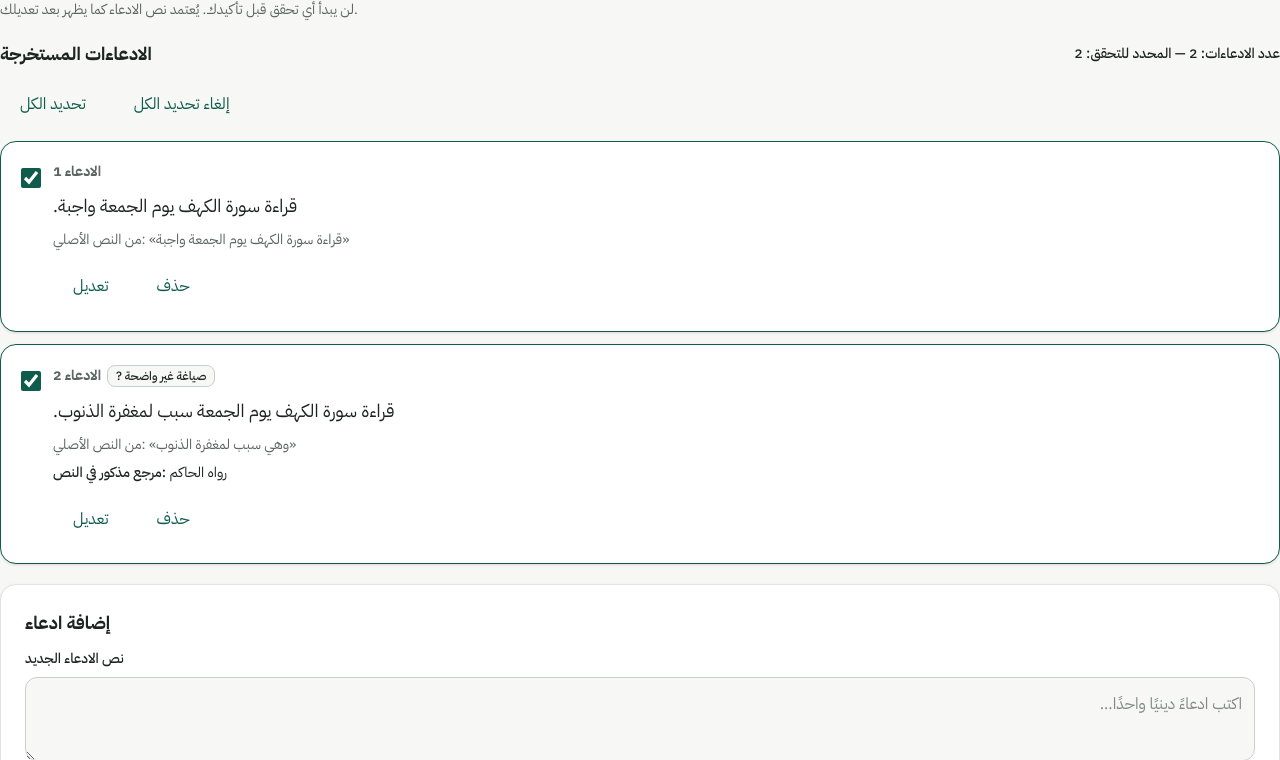
Scenario: Claim Review › cannot save an empty edit
Click the button "تعديل" below "الادعاء 1": (91, 286) [53,262,128,311]
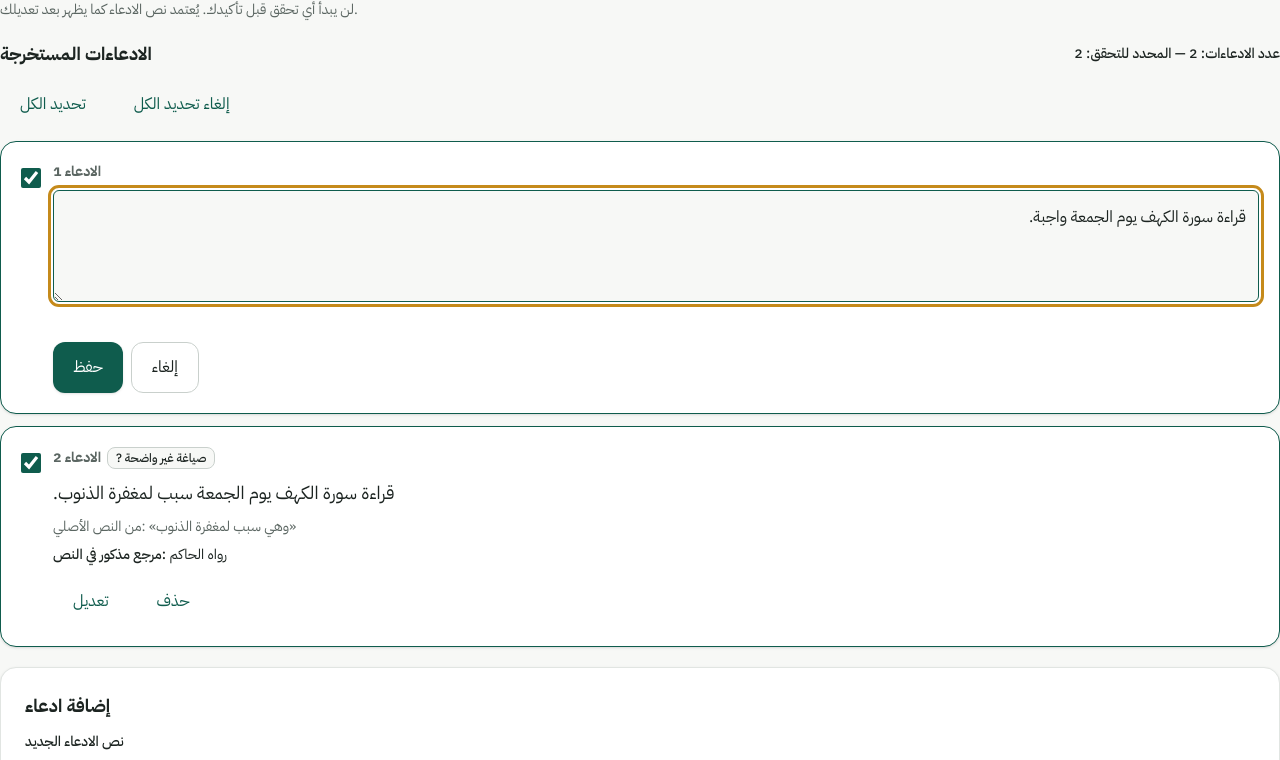
Clear the text box named "تعديل نص الادعاء 1": (656, 246) [53,190,1259,302]
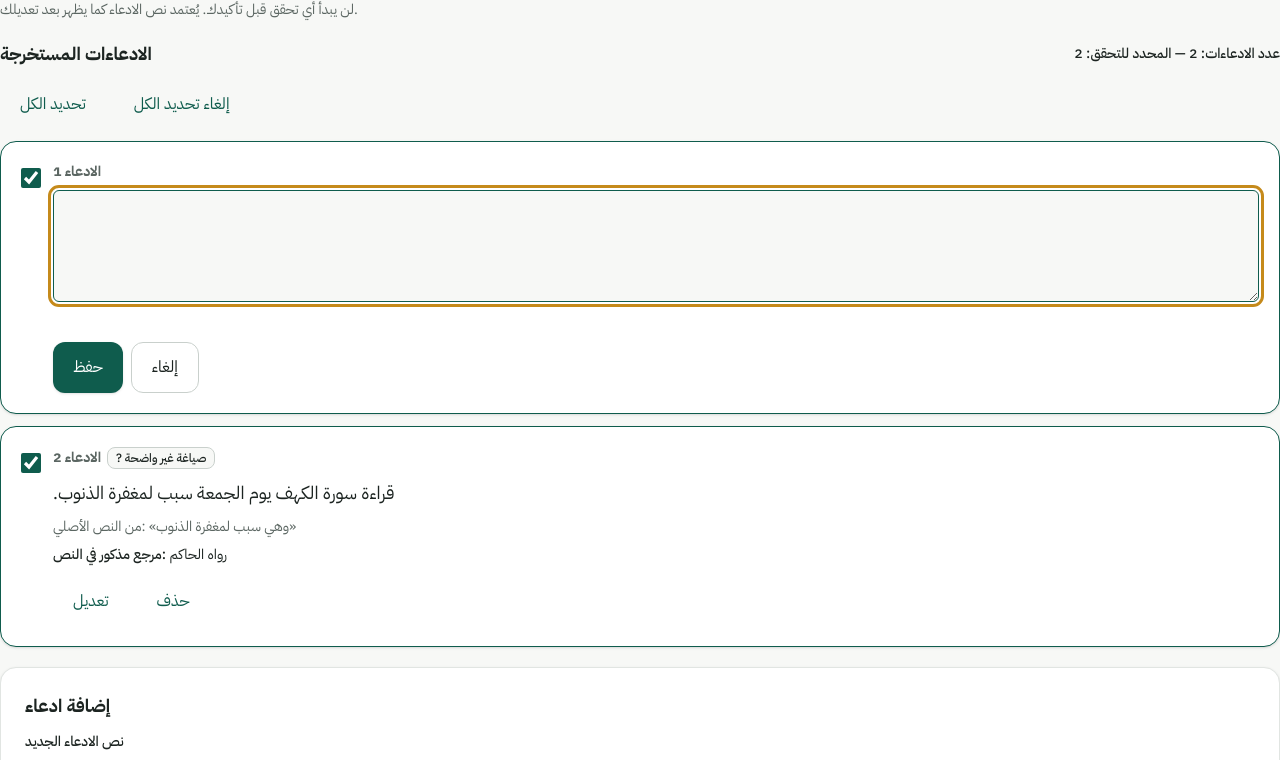
Click the button "حفظ": (88, 368) [53,342,123,393]
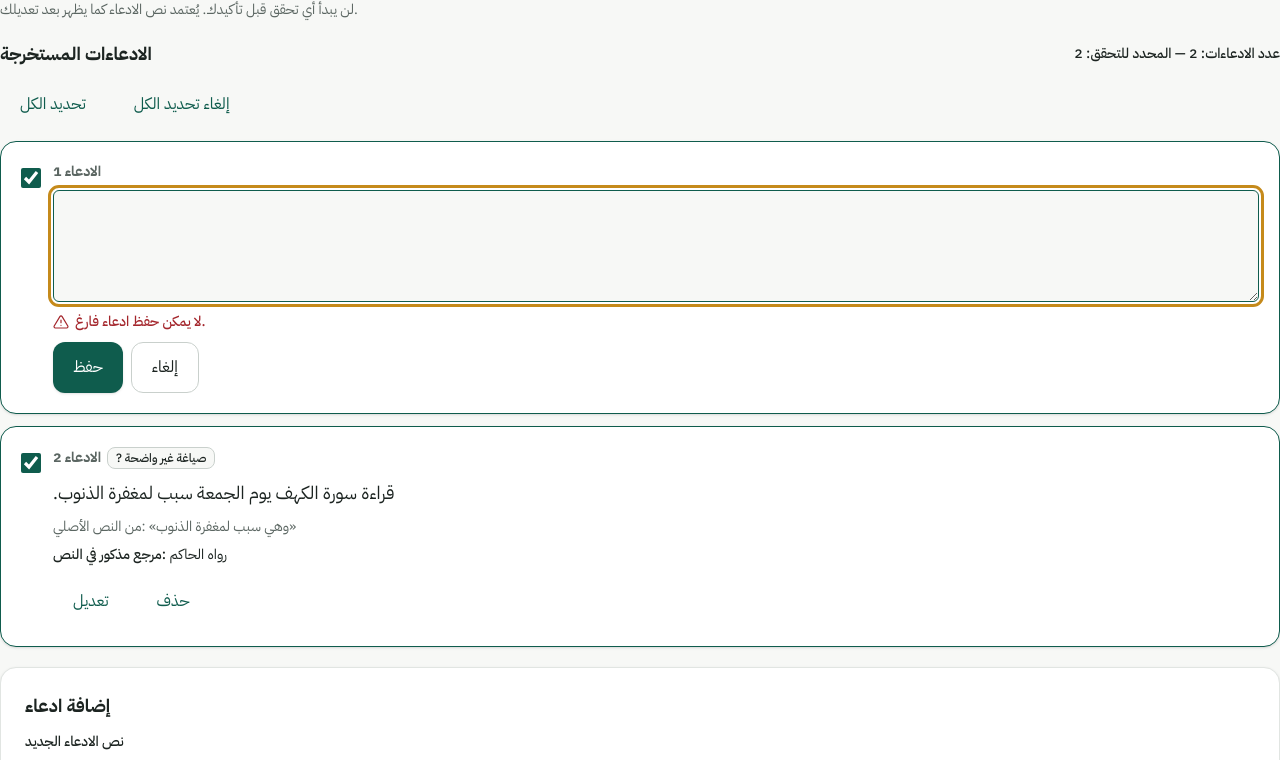
Now the message reads "لا يمكن حفظ ادعاء فارغ.", box [75,311,206,332]
